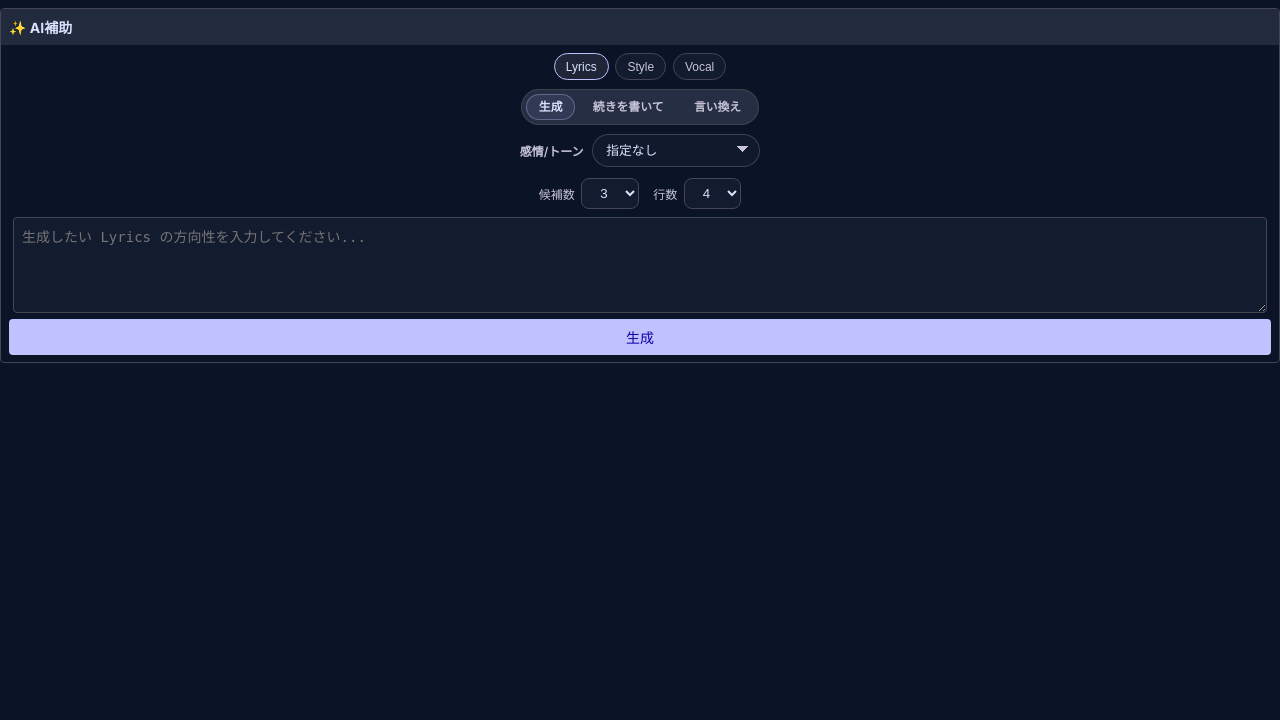
LLMAssistPanel › generation flow › should discard candidates
The image size is (1280, 720).
Click the button "生成".
click(640, 337)  # box x1=9 y1=319 x2=1271 y2=355
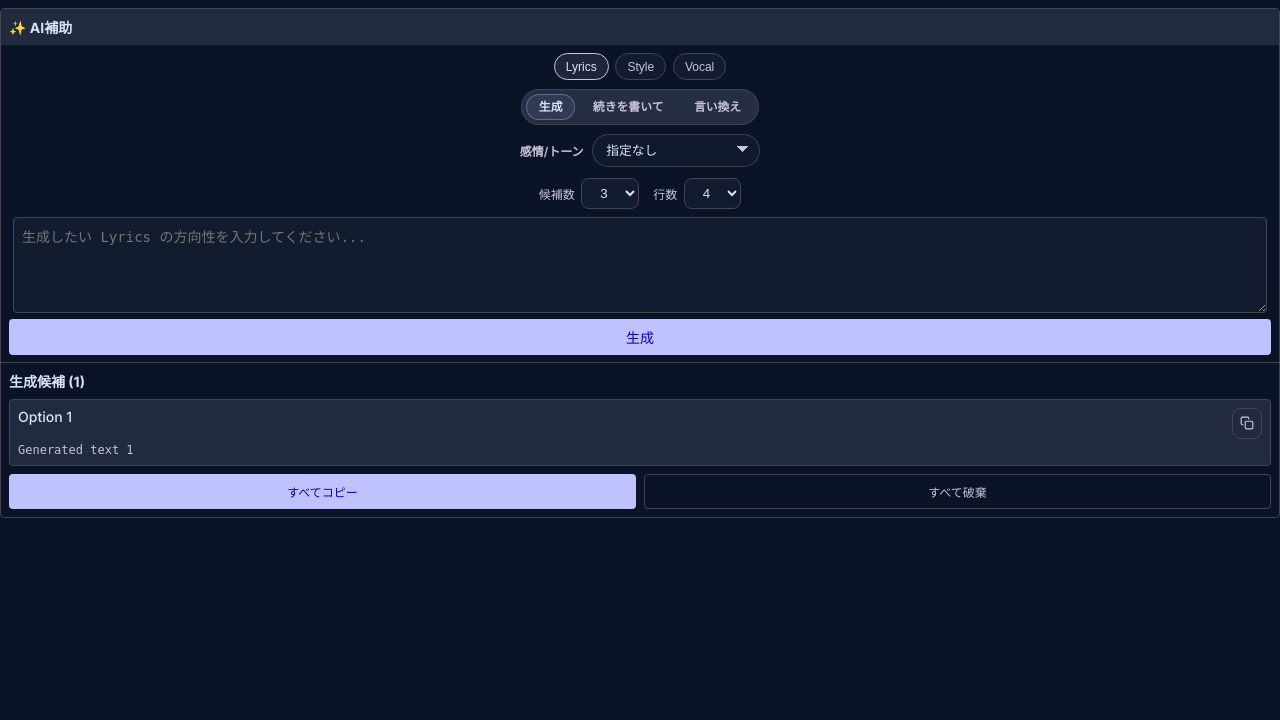
Check: the button "すべて破棄" is shown
Click the button "すべて破棄".
click(958, 491)  # box x1=644 y1=474 x2=1271 y2=509
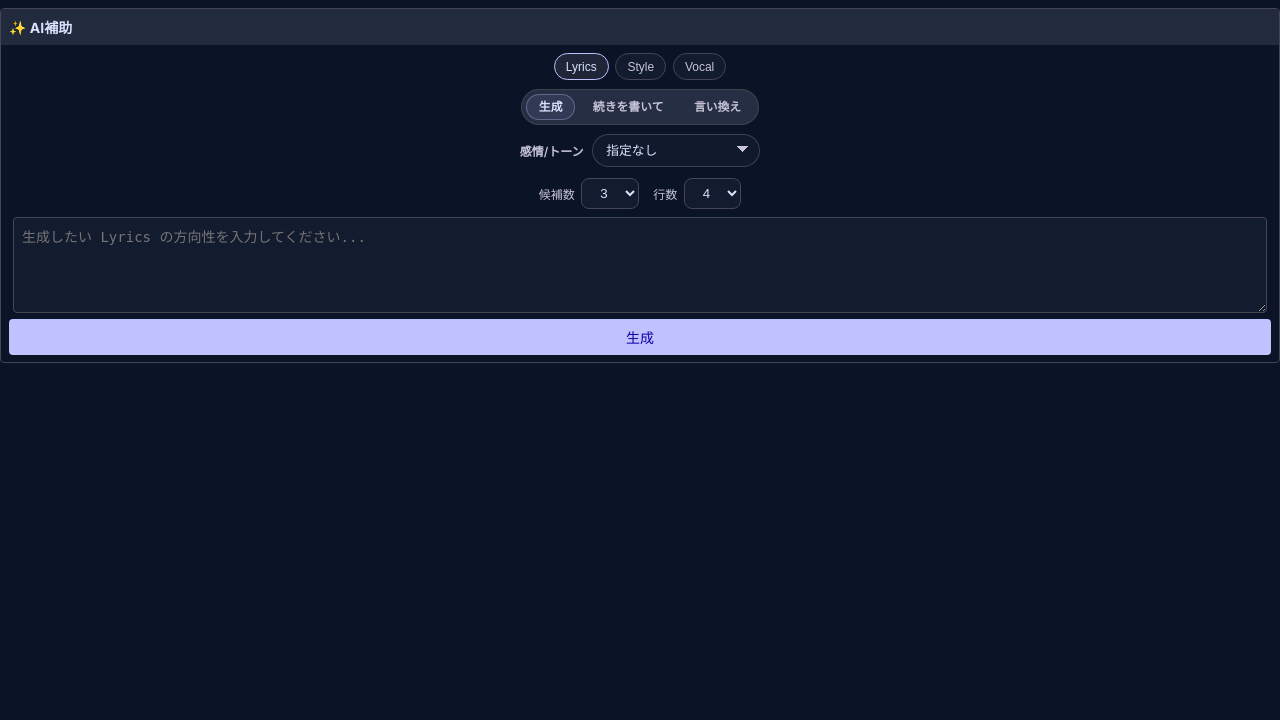
Check: the text "Option 1" is gone
